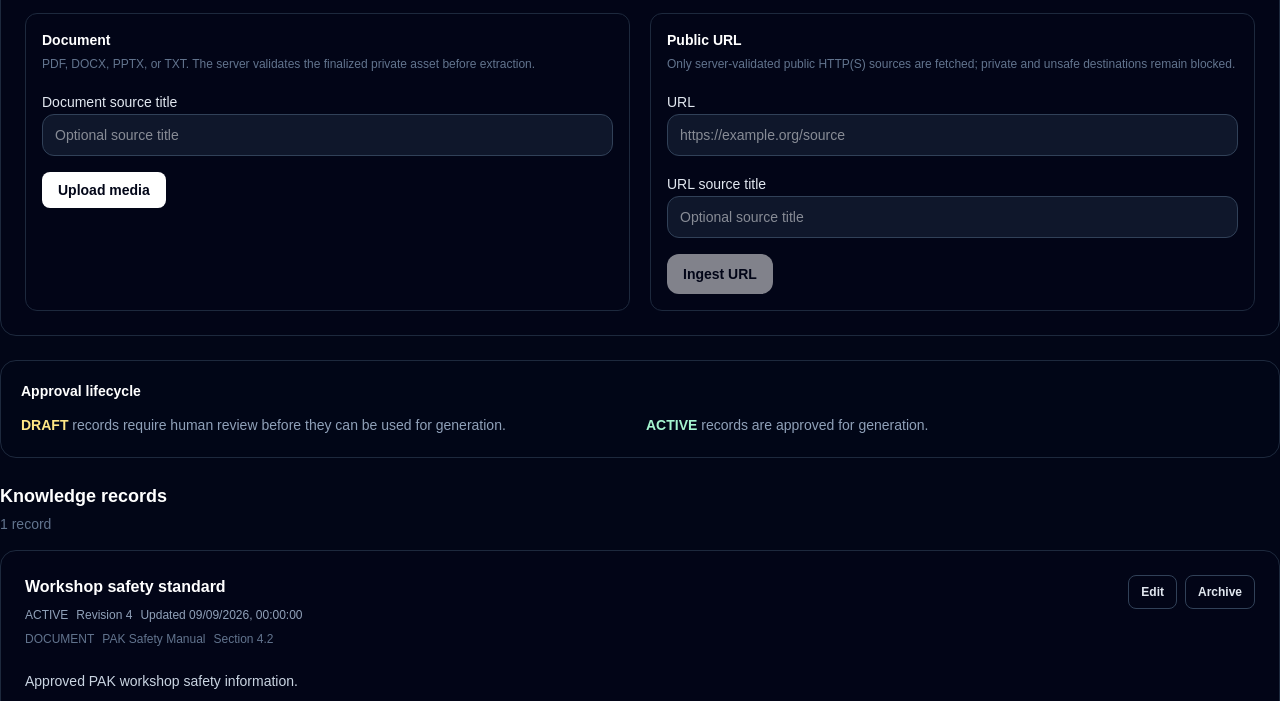
Test: KnowledgeBaseManager › displays safe action errors
(page scrolled)
Click the button with aria-label "Archive Workshop safety standard" at (1220, 592), box [1185,575,1255,609]
(page scrolled)
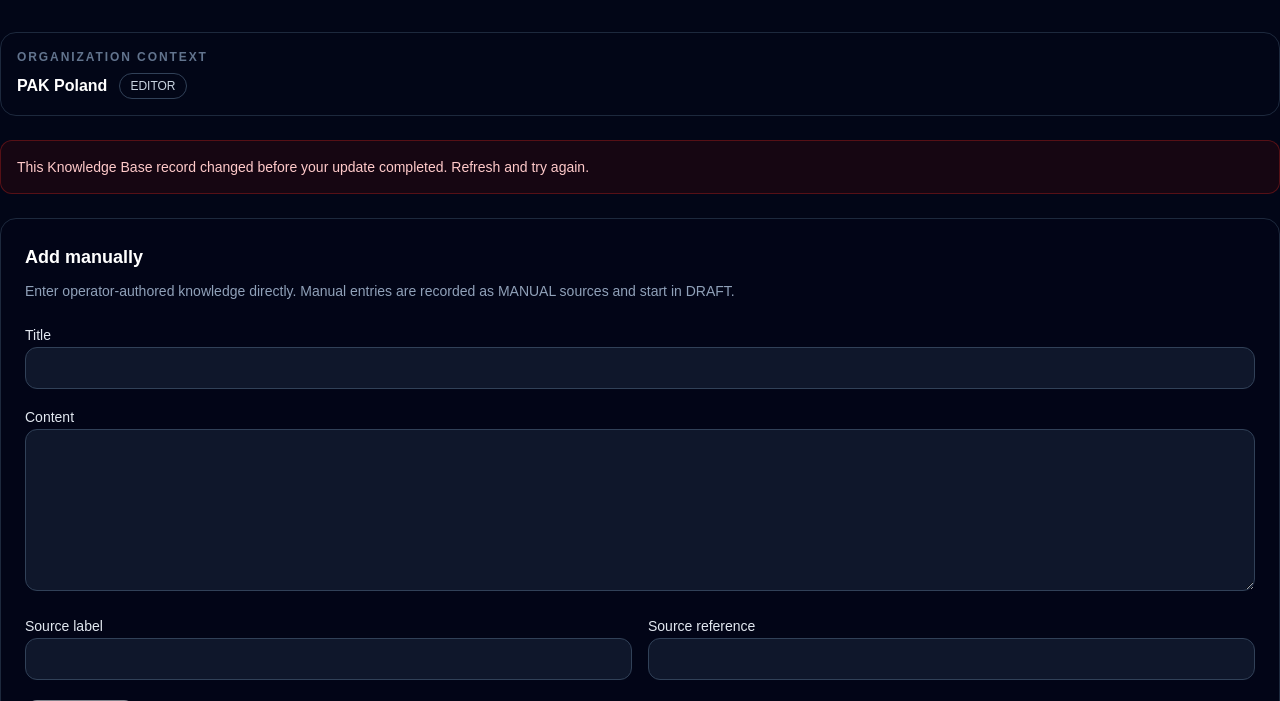
Expected: the text "This Knowledge Base record changed before your update completed. Refresh and try again." is shown, [17,159,589,175]
